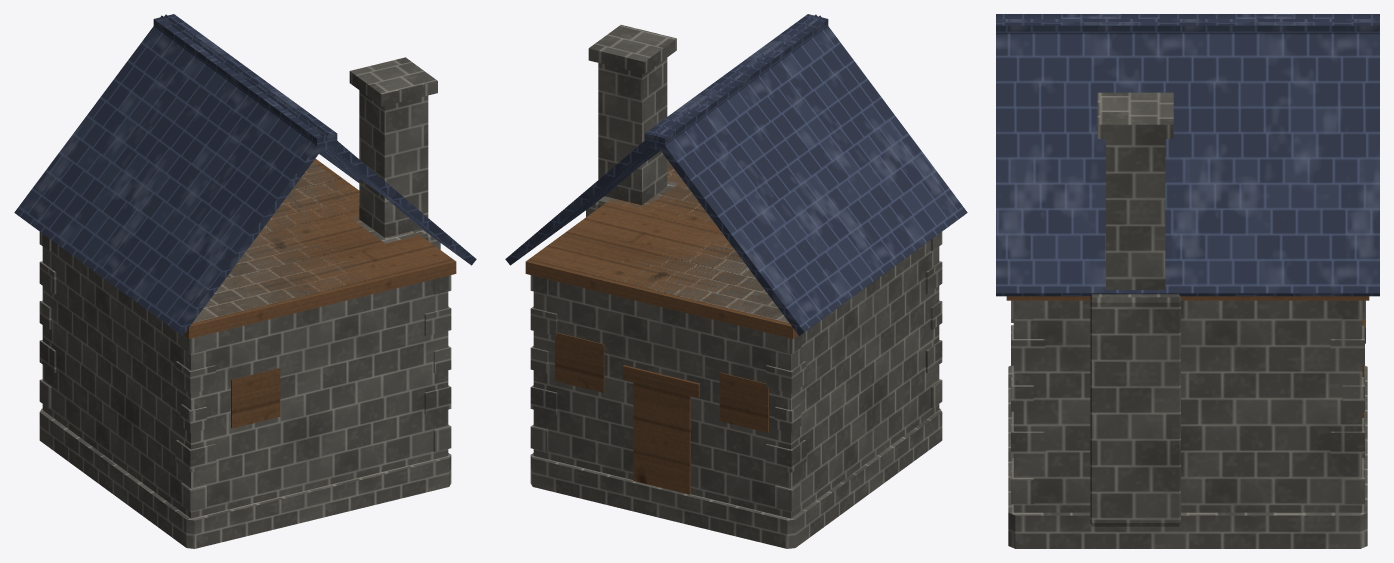
Rendered from stonehouse.gltf.
3 views of the same model, side by side, from view 1: azimuth 30°, elevation 25°; view 2: azimuth 150°, elevation 25°; view 3: azimuth 270°, elevation 25° (orthographic). The views are drawn at different scales.
Parts seen in each view (by area): view 1: StoneHouse; view 2: StoneHouse; view 3: StoneHouse.
Part boxes in pixels (<box>): StoneHouse: <box>14,14,476,548</box>; StoneHouse: <box>505,14,967,548</box>; StoneHouse: <box>996,14,1379,548</box>.
Size of the model in its own units: 2.36 by 2.88 by 2.2.
7 materials, 6 textured.
